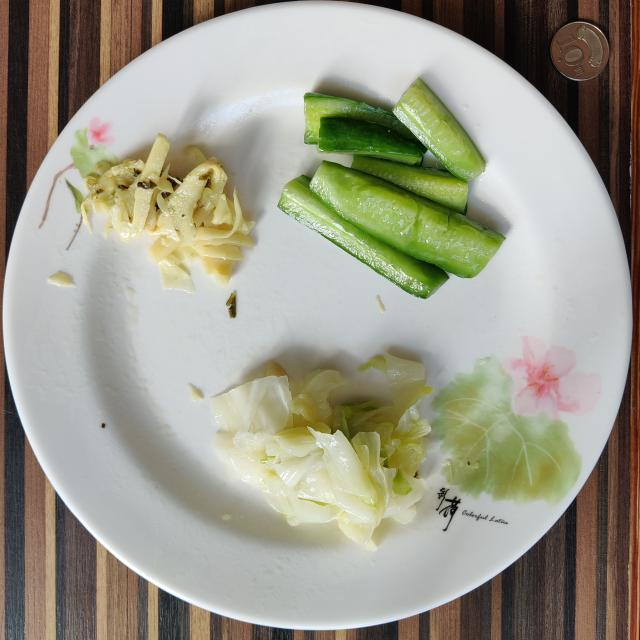cabbage: (210, 354, 434, 549)
coin: (550, 21, 609, 81)
cucumber: (279, 156, 505, 299), (304, 78, 485, 182)
